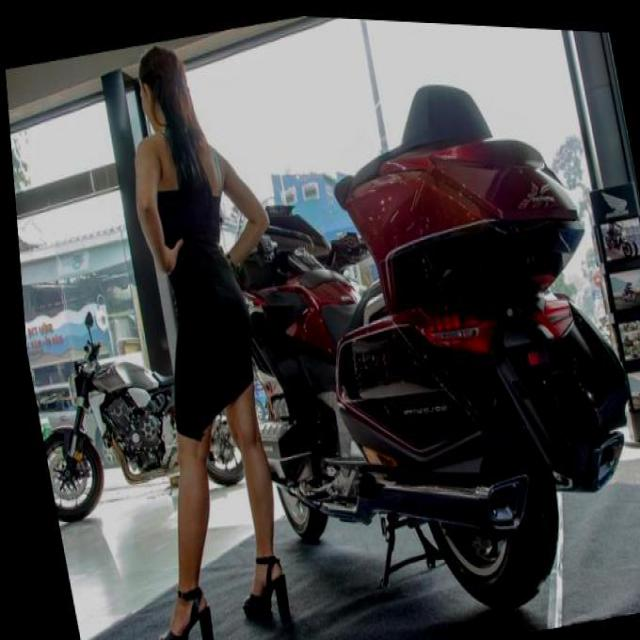Gold Wing: (194, 34, 639, 639)
